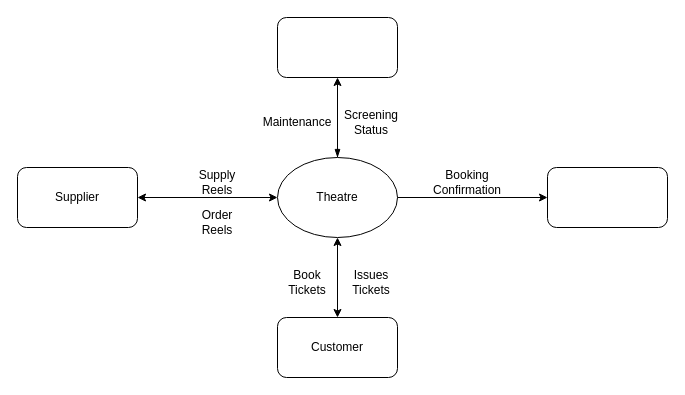
Some shapes in this 685 by 395 pixel diagram are drawn without their labels. The shapes that lost their labels are listed below. From the top down, each one's centre as x and y in pixels, then its label:
At pixel 337 47: "Screens".
At pixel 607 197: "Online Booking".
